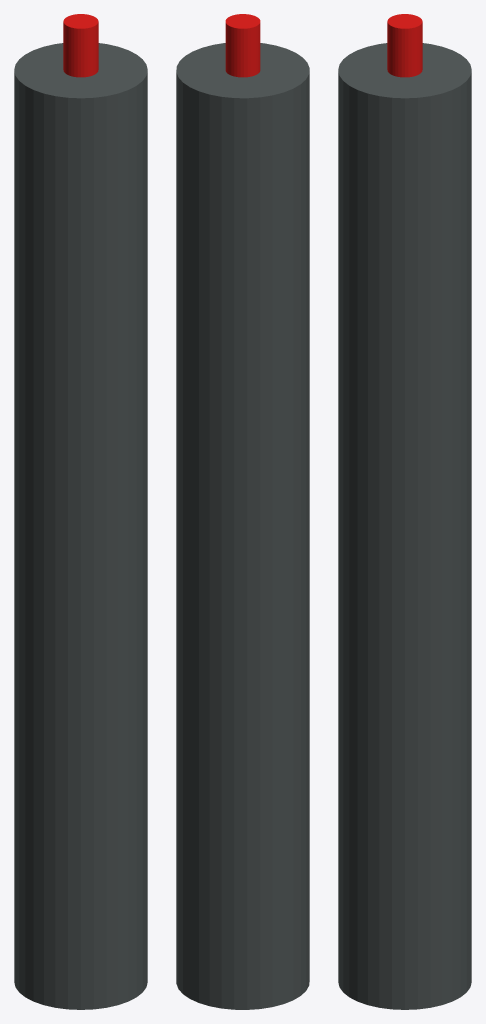
Rendered from button.fbx.
3 renders of one model, left to right at view 1: azimuth 90°, elevation 25°; view 2: azimuth 150°, elevation 25°; view 3: azimuth 270°, elevation 25°, orthographic.
Parts seen in each view (by area): view 1: Cylinder; view 2: Cylinder; view 3: Cylinder.
Part boxes in pixels (x1,y1,x2,y2): Cylinder: (14,14,147,1009); Cylinder: (176,14,309,1009); Cylinder: (338,14,471,1009).
Size of the model in its own units: 13.28 by 105 by 13.28.
